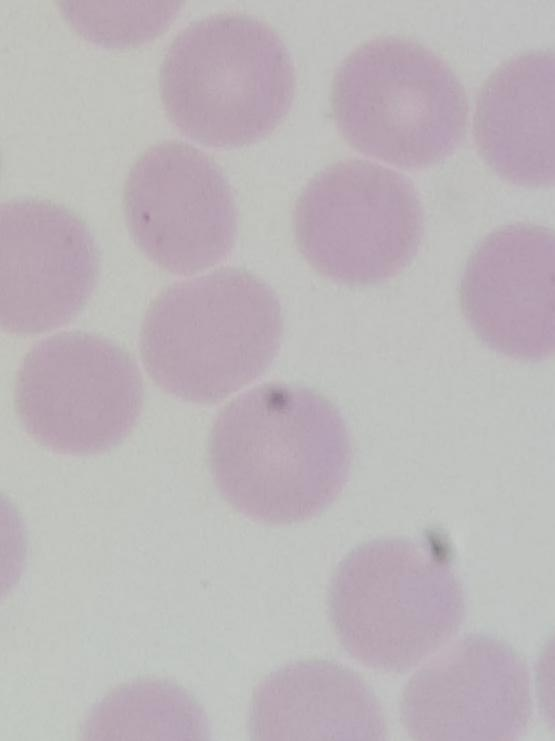Uninfected: (206, 377, 343, 524), (138, 269, 281, 404), (334, 33, 461, 181), (330, 531, 473, 660), (160, 17, 287, 149), (122, 139, 239, 277), (290, 163, 426, 281), (12, 337, 142, 458), (404, 635, 530, 741), (0, 201, 97, 336), (466, 225, 555, 365)
